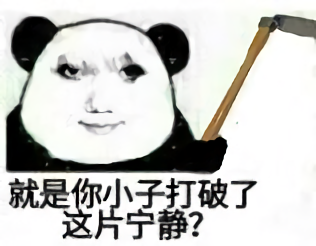dragon: (50, 52, 150, 138)
